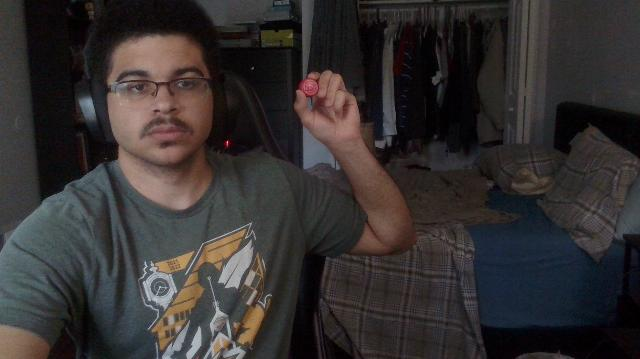cap: (300, 78, 318, 98)
